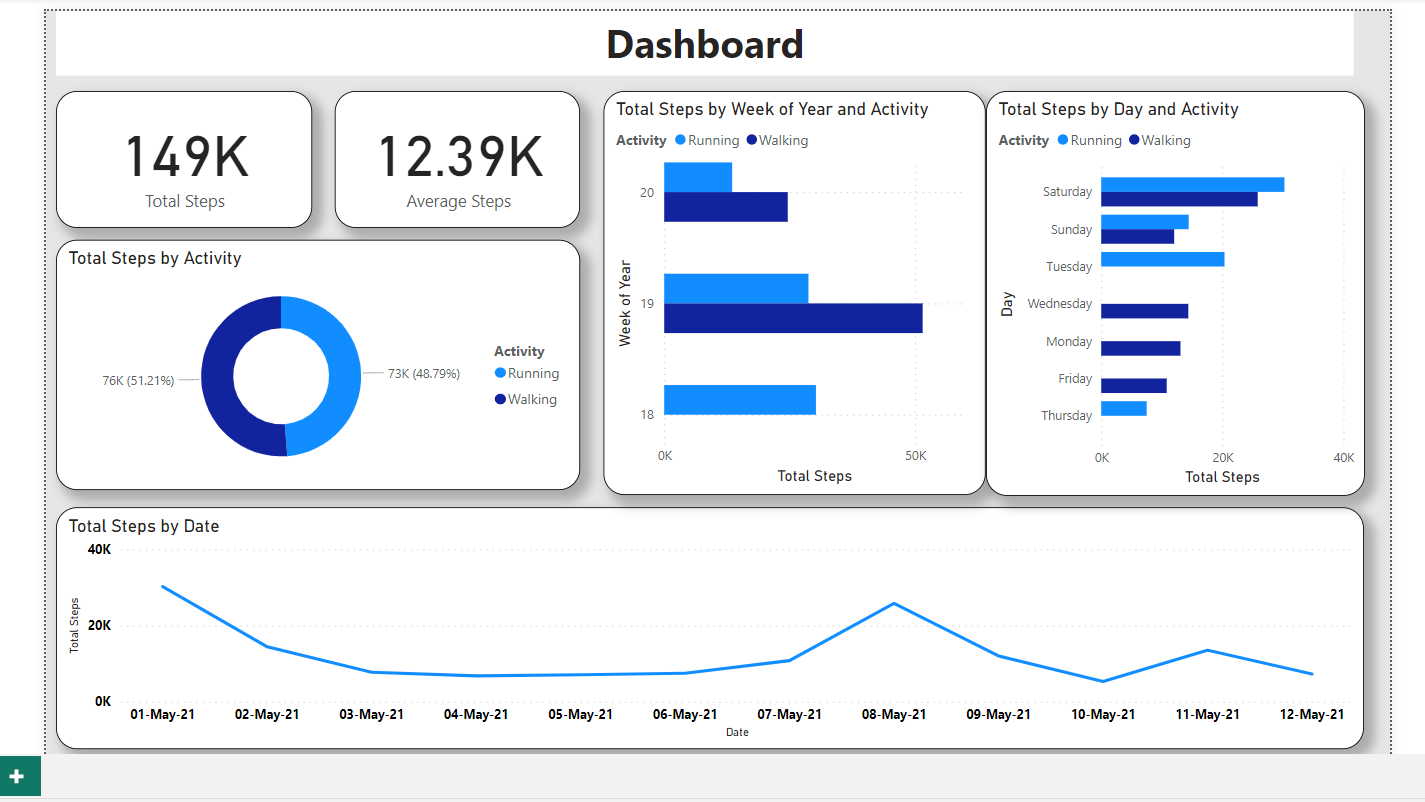

This screenshot's page, from the dashboard's own definition file:
{"tool":"powerbi","page":{"name":"Page 1","canvas":[1280,720],"ordinal":0},"visuals":[{"type":"textbox","box":[9.6,0,1236.2,61.5],"z":0},{"type":"card","fields":{"Values":["Basic Calculations.Total Steps"]},"box":[9.6,76,243.6,130.3],"z":1},{"type":"card","fields":{"Values":["Basic Calculations.Average Steps"]},"box":[275,76,234,130.3],"z":2},{"type":"donutChart","fields":{"Y":["Basic Calculations.Total Steps"],"Series":["DM_Activity.ACTIVITYName"]},"box":[9.6,218.3,499.3,238.8],"z":3},{"type":"lineChart","fields":{"Category":["DM_Dates.Date"],"Y":["Basic Calculations.Total Steps"]},"box":[9.6,472.8,1245.8,230.4],"z":4},{"type":"clusteredBarChart","fields":{"Category":["DM_Dates.Week of Year"],"Y":["Basic Calculations.Total Steps"],"Series":["DM_Activity.ACTIVITYName"]},"box":[530.7,76,364.2,384.7],"z":5},{"type":"clusteredBarChart","fields":{"Category":["DM_Dates.Day Name"],"Y":["Basic Calculations.Total Steps"],"Series":["DM_Activity.ACTIVITYName"]},"box":[894.9,76,360.6,385.9],"z":6}]}

Visuals, with their boxes in screenshot pixels (x1, y1, x2, y2), scaled from the page's 1280x720 canvas onto the 1425x802 screenshot:
textbox: x1=11, y1=0, x2=1387, y2=69
card - Basic Calculations.Total Steps: x1=11, y1=85, x2=282, y2=230
card - Basic Calculations.Average Steps: x1=306, y1=85, x2=567, y2=230
donutChart - Basic Calculations.Total Steps x DM_Activity.ACTIVITYName: x1=11, y1=243, x2=567, y2=509
lineChart - DM_Dates.Date x Basic Calculations.Total Steps: x1=11, y1=527, x2=1398, y2=783
clusteredBarChart - DM_Dates.Week of Year x Basic Calculations.Total Steps: x1=591, y1=85, x2=996, y2=513
clusteredBarChart - DM_Dates.Day Name x Basic Calculations.Total Steps: x1=996, y1=85, x2=1398, y2=515
